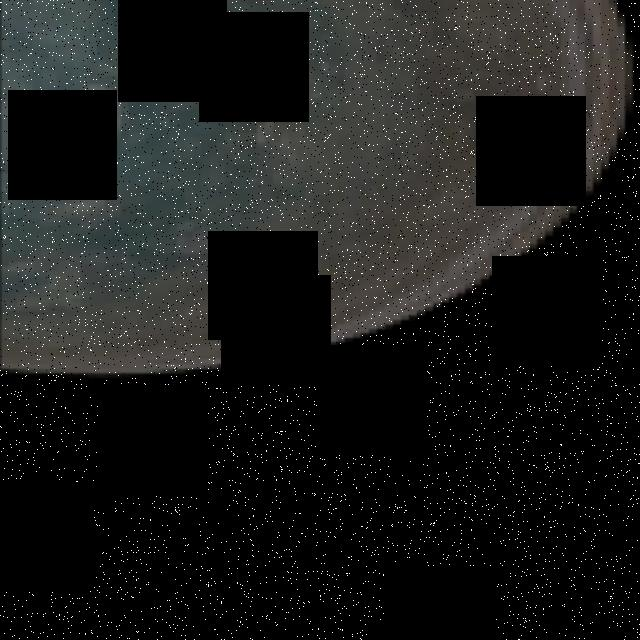Jupiter: (0, 0, 632, 382)
